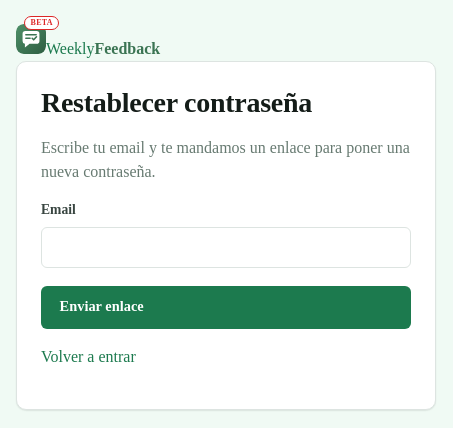
it: ForgotPasswordPage — nunca filtra si el email existe o no › con éxito, manda el email y muestra el mismo mensaje de "enviado"
The width and height of the screenshot is (453, 428).
Type "a@b.com" into the field labelled "Email".
click(226, 248); type("a@b.com")  # box [41,227,411,268]
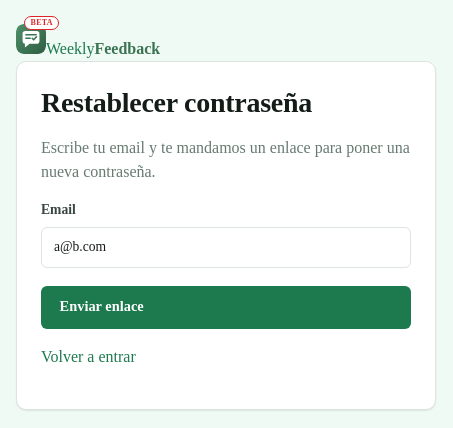
Click the button "Enviar enlace".
click(102, 306)  # box [41,286,411,329]
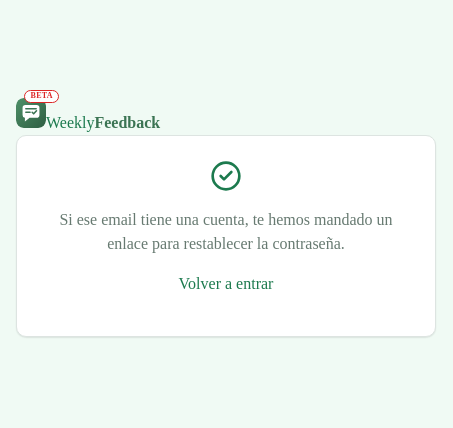
Check: the text "Si ese email tiene una cuenta" is shown, box [59,210,393,252]
